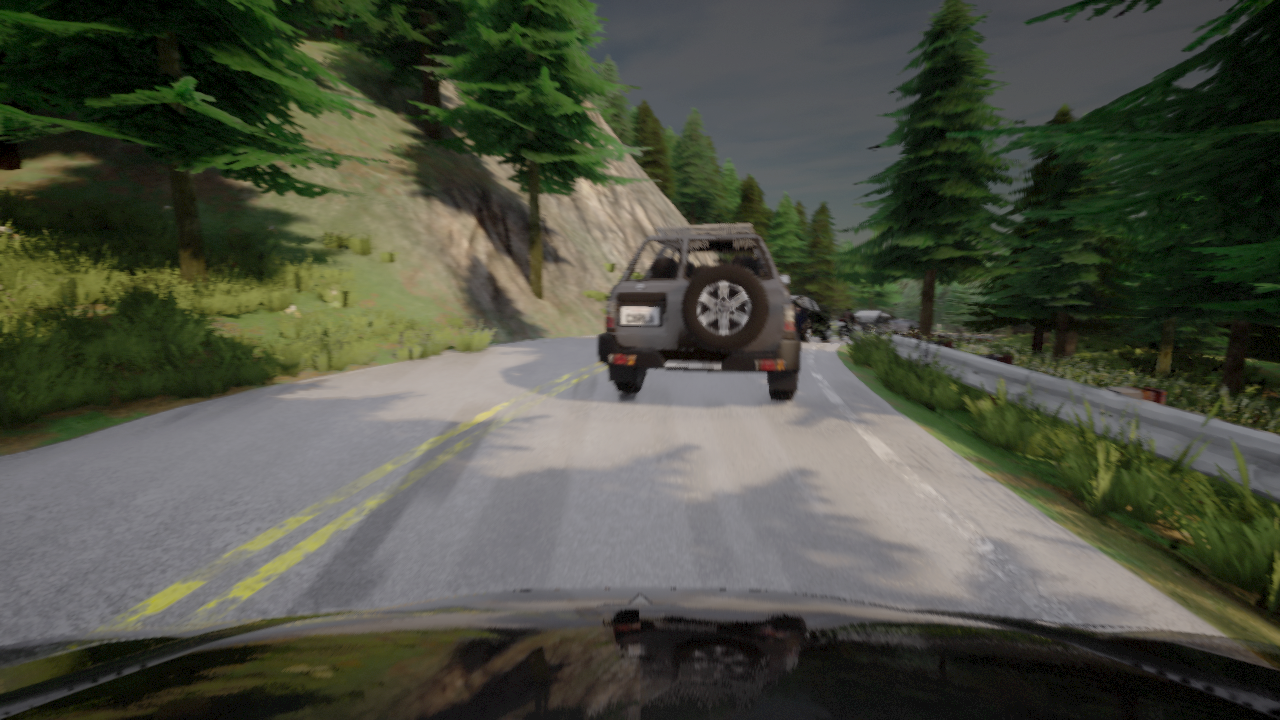cyclist: (0, 588, 1279, 719), (598, 224, 800, 401), (790, 295, 831, 341), (853, 310, 897, 335), (878, 319, 918, 335), (835, 316, 859, 340), (959, 331, 964, 337)
